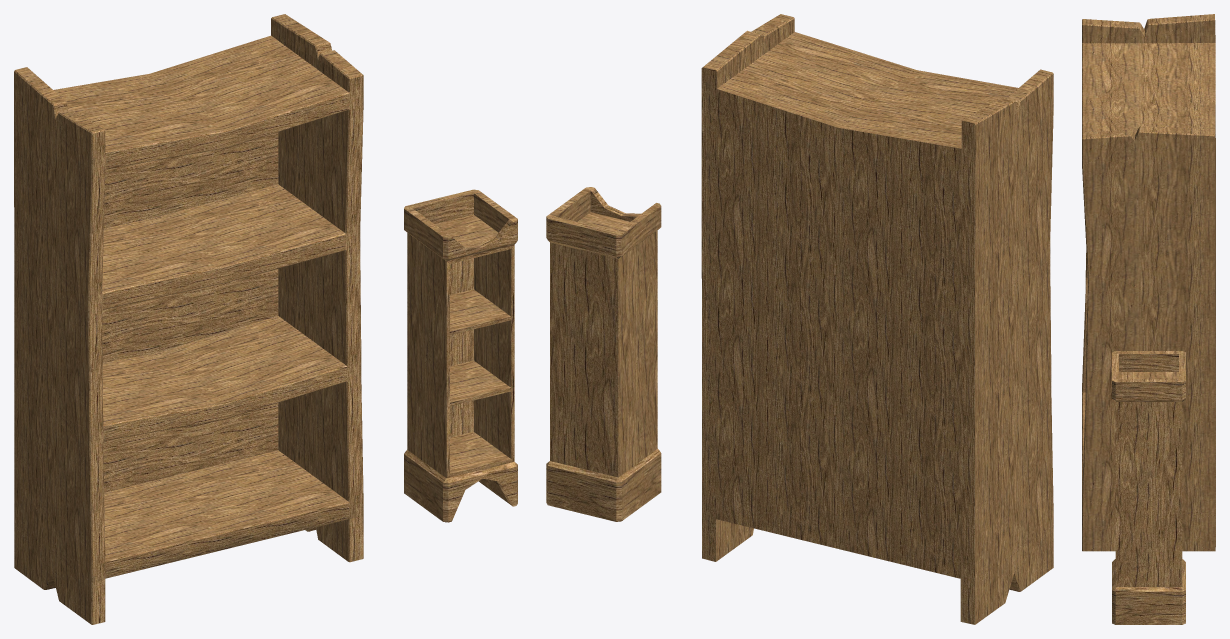
Rendered from bookshelves.lod0.glb.
3 views of the same model, side by side, from view 1: azimuth 30°, elevation 25°; view 2: azimuth 150°, elevation 25°; view 3: azimuth 270°, elevation 25° (orthographic). The views are drawn at different scales.
Visible parts, largest first — view 1: Object_4; view 2: Object_4; view 3: Object_4.
Boxes of the visible parts, box(x1,y1,x2,y2) form: Object_4: box(14, 14, 517, 624); Object_4: box(546, 14, 1053, 624); Object_4: box(1082, 14, 1215, 624).
Bounding box in the file's own units: 2.43 × 2.6 × 0.7412.
Materials: 1 (1 with a texture image).
